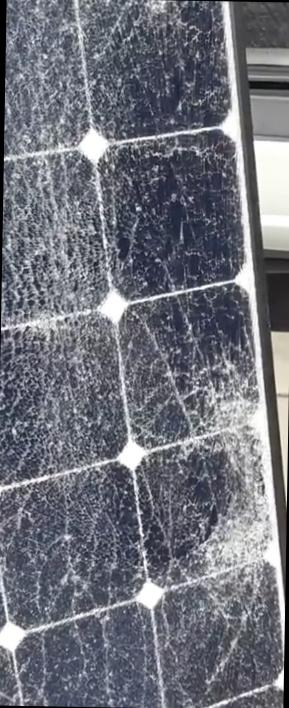Crack: (5, 3, 127, 488), (133, 300, 276, 581)
